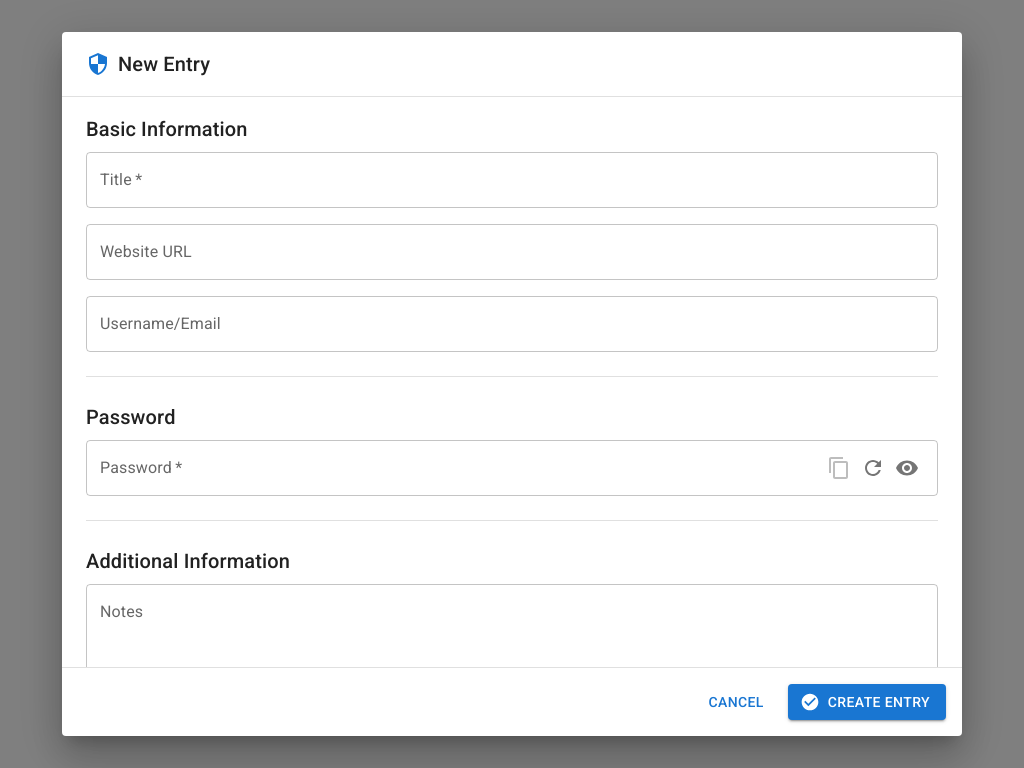
VaultEntryForm › Auto-fill Features › auto-fills title from URL
The image size is (1024, 768).
Type "https://github.com" into the field labelled "Website URL".
click(512, 252); type("https://github.com")  # box x1=86 y1=224 x2=938 y2=280
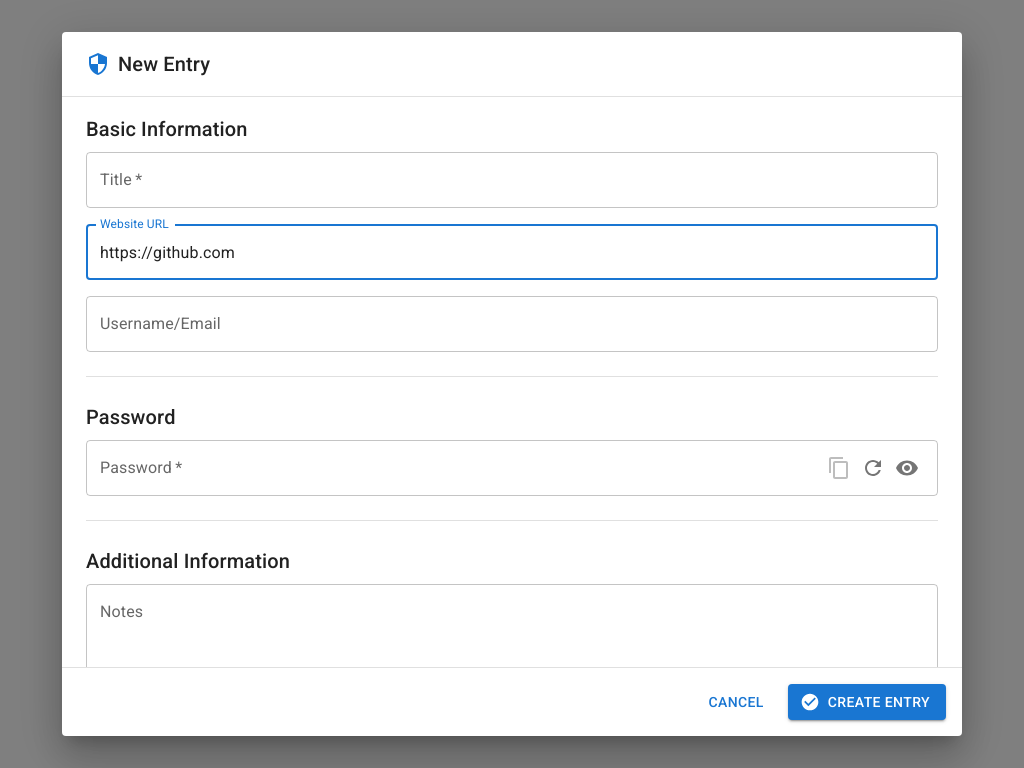
Press Tab
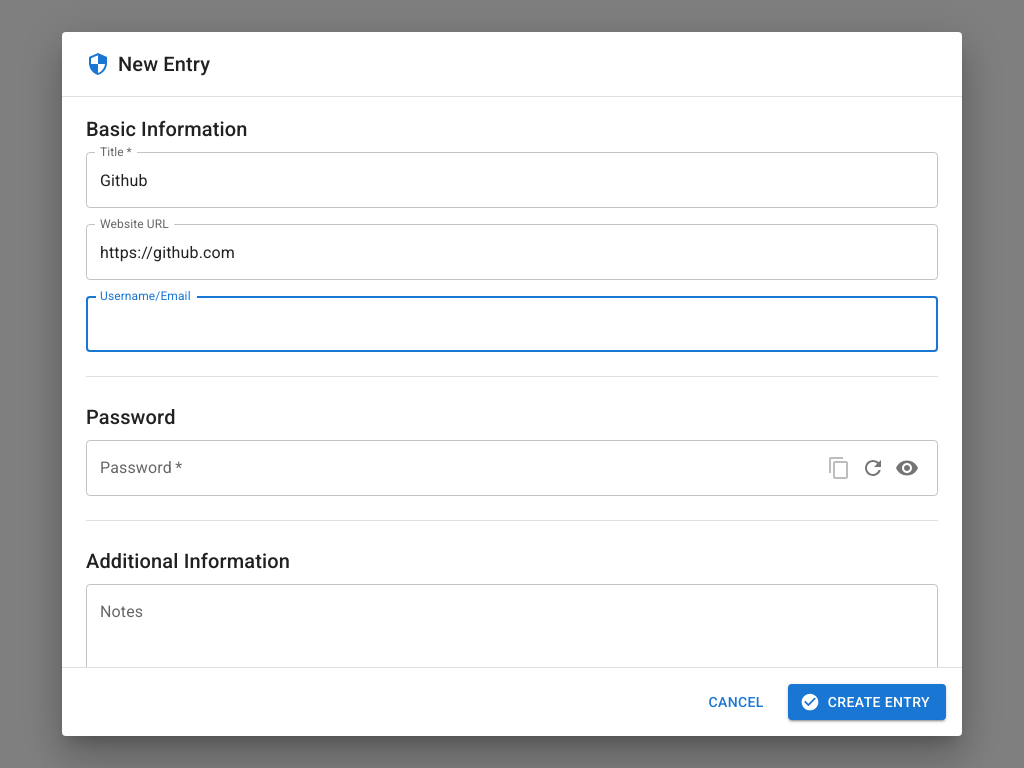
Result: the field labelled "Title *" holds "Github" at x1=86 y1=152 x2=938 y2=208
